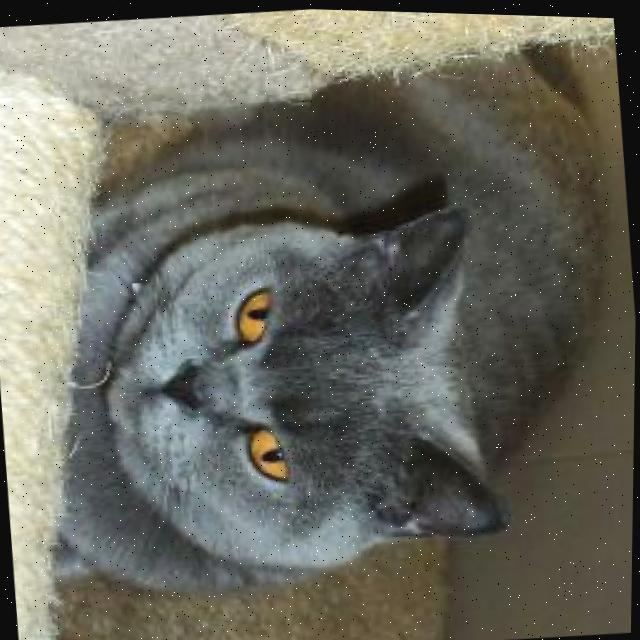British Shorthair: (0, 5, 640, 618)
